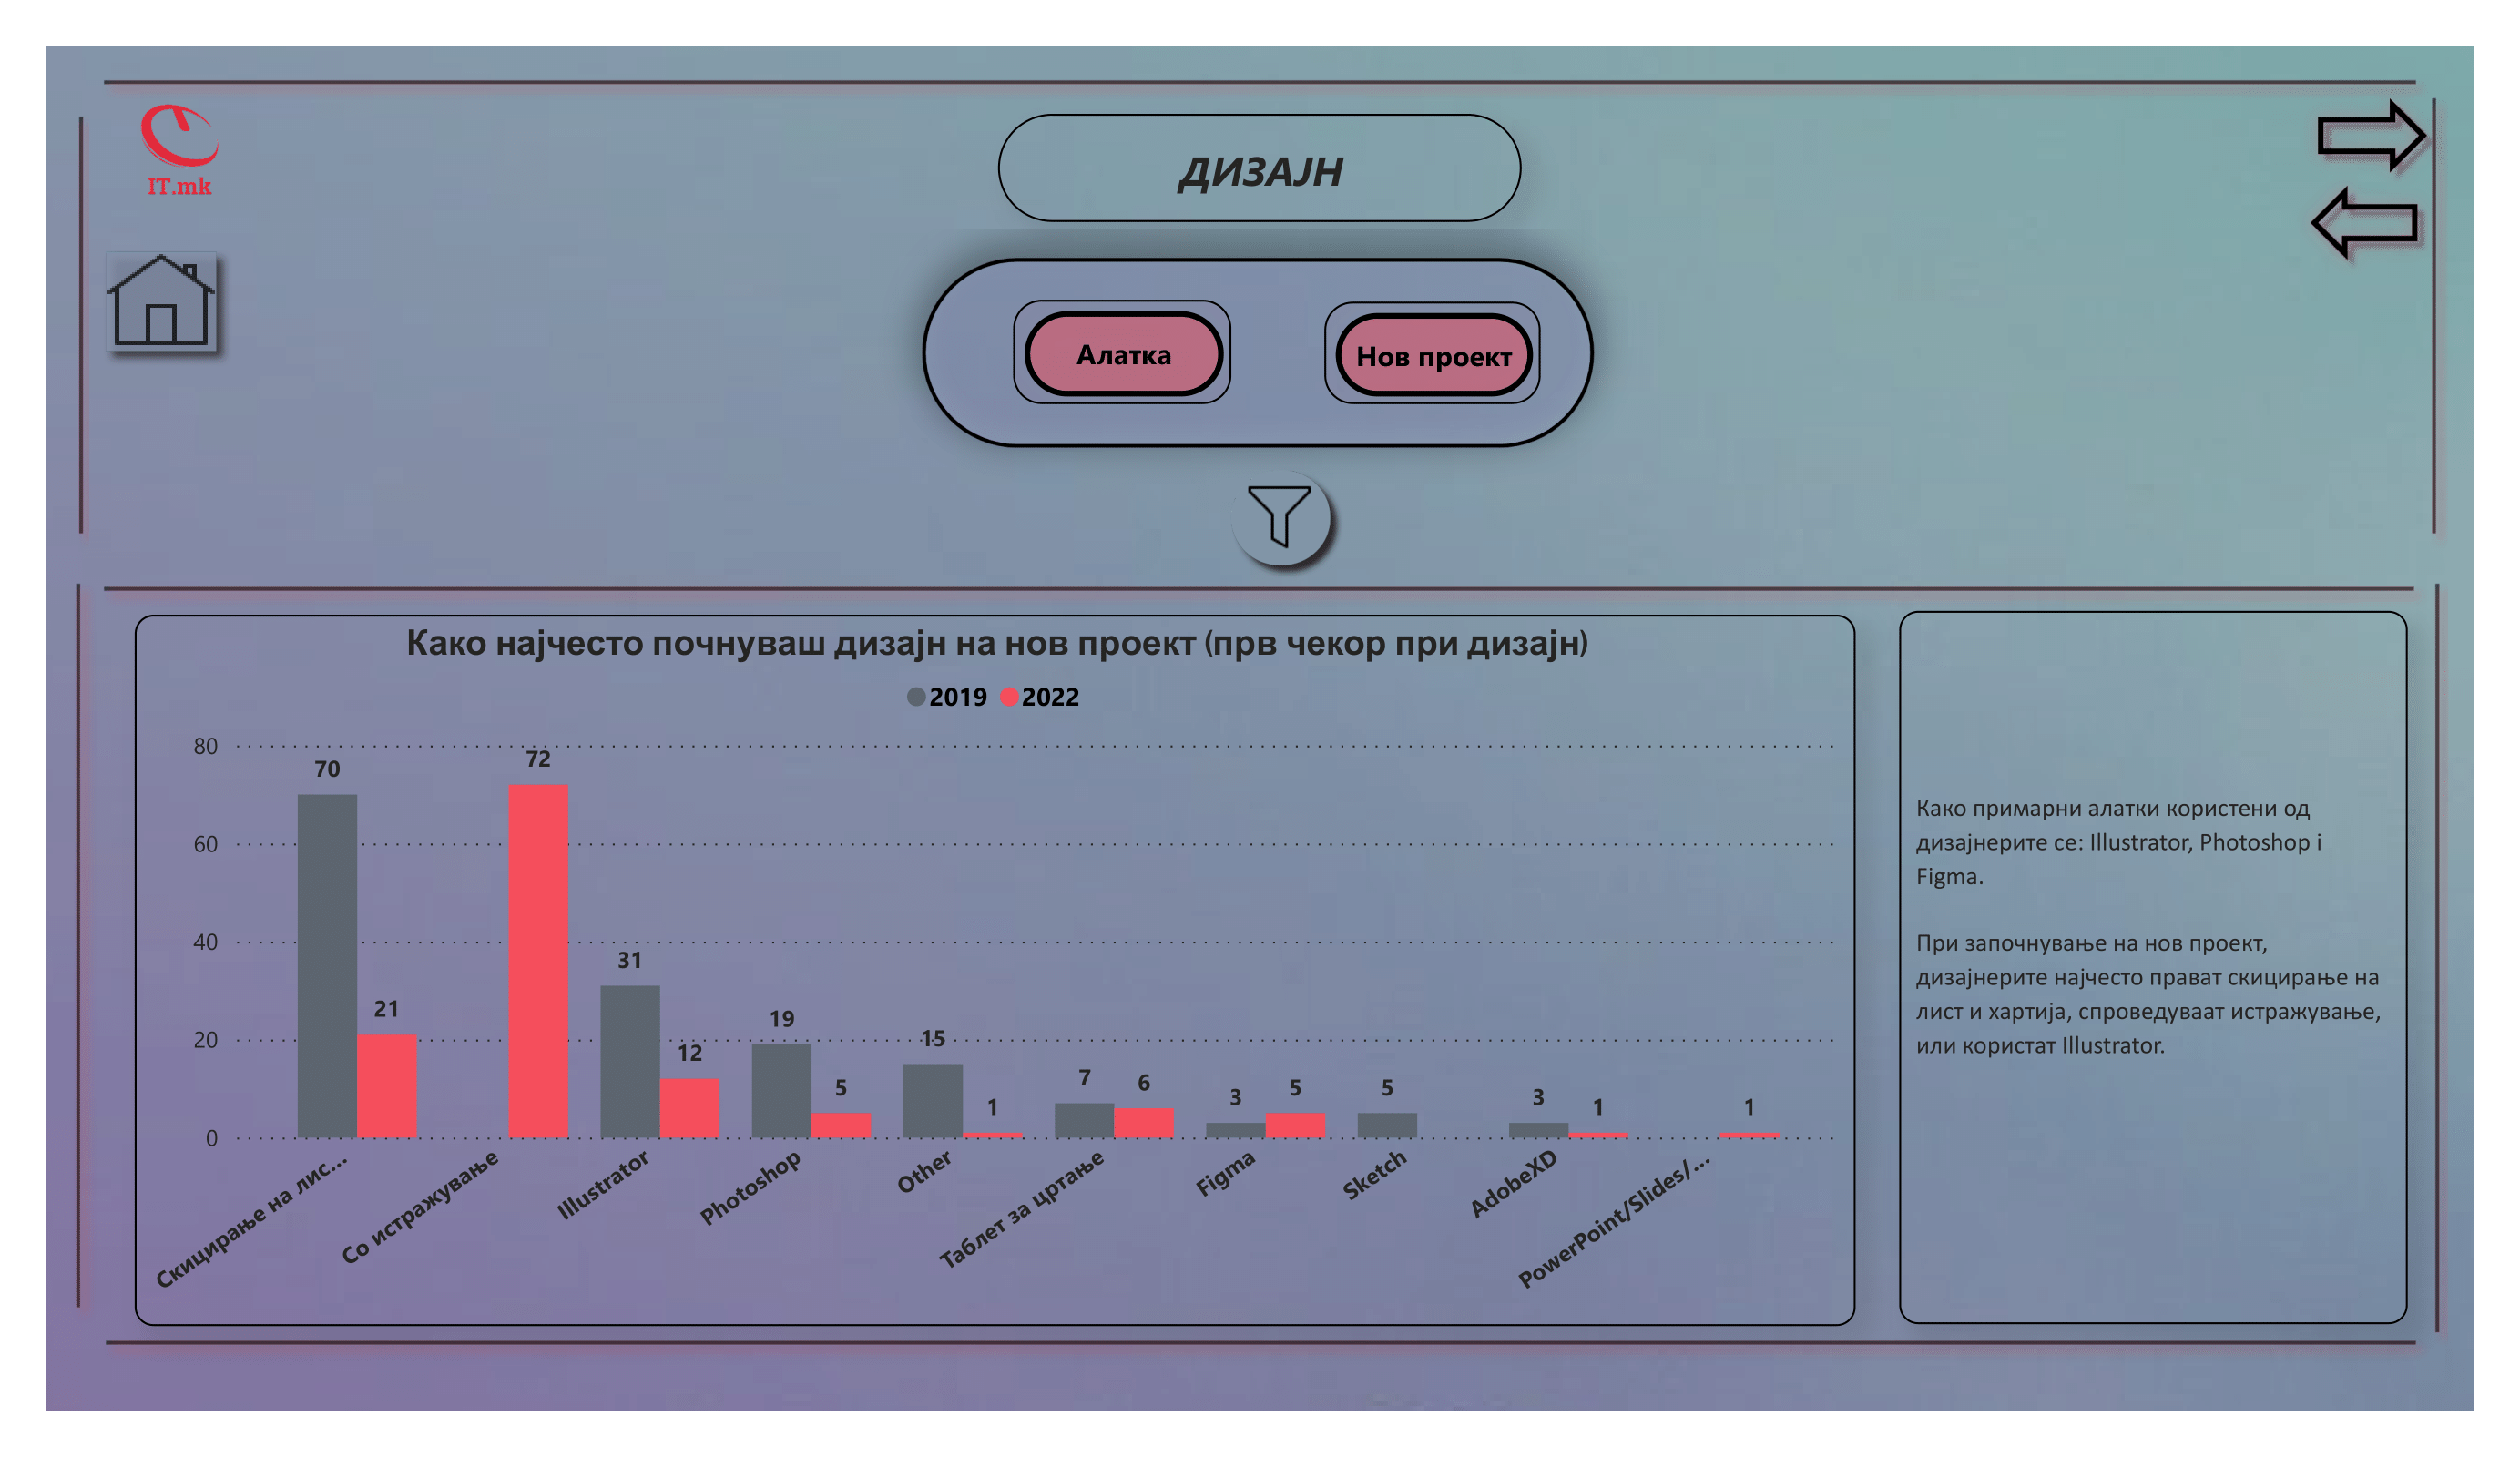

This screenshot's page, from the dashboard's own definition file:
{"tool":"powerbi","page":{"name":"Дизајн ","canvas":[1280,720],"ordinal":6},"visuals":[{"type":"shape","box":[1249.7,18.7,16.3,247.1],"z":0},{"type":"shape","box":[22.4,9.7,1235.3,19.5],"z":1000},{"type":"shape","box":[22.1,275.1,1234.5,23.3],"z":2000},{"type":"shape","box":[10.5,29.1,12.8,236.6],"z":3000},{"type":"actionButton","box":[22.8,99.6,75.7,70.5],"z":4000},{"type":"image","box":[23.1,19.2,95.2,71.2],"z":5000},{"type":"textbox","box":[502.3,35.6,275.9,57.3],"z":6000},{"type":"shape","box":[437.2,86.7,404.2,150.1],"z":7000},{"type":"actionButton","box":[616.8,216,68.5,65.9],"z":8000},{"type":"actionButton","box":[1185.6,66.4,72.3,54.8],"z":9000},{"type":"actionButton","box":[1190.2,19.8,72.3,54.8],"z":10000},{"type":"actionButton","box":[673.9,135,113.6,54],"z":11000},{"type":"actionButton","box":[510.1,134.5,114.5,54.7],"z":12000},{"type":"shape","box":[1252,275.1,14,411.5],"z":13000},{"type":"shape","box":[22.5,673.9,1235.2,20.2],"z":14000},{"type":"shape","box":[5.8,275.1,23.3,398.7],"z":15000},{"type":"textbox","box":[976.8,297.8,268.1,375.9],"z":16000},{"type":"clusteredColumnChart","title":"Како најчесто почнуваш дизајн на нов проект (прв чекор при дизајн)","fields":{"Category":["Mapiranje 2019-2022.Q17 Како најчесто почнуваш дизајн на нов проект (прв чекор при дизајн)? (groups)"],"Series":["Date.Year"],"Y":["CountNonNull(Mapiranje 2019-2022.Index)"]},"box":[47,300,907,375],"z":18000}]}

Visuals, with their boxes on the page's 1280x720 design canvas (x1, y1, x2, y2). These are canvas units, not pixel positions in the 2520x1457 screenshot, which may show the page scaled, cropped or inside an application window:
shape: left=1250, top=19, right=1266, bottom=266
shape: left=22, top=10, right=1258, bottom=29
shape: left=22, top=275, right=1257, bottom=298
shape: left=10, top=29, right=23, bottom=266
actionButton: left=23, top=100, right=98, bottom=170
image: left=23, top=19, right=118, bottom=90
textbox: left=502, top=36, right=778, bottom=93
shape: left=437, top=87, right=841, bottom=237
actionButton: left=617, top=216, right=685, bottom=282
actionButton: left=1186, top=66, right=1258, bottom=121
actionButton: left=1190, top=20, right=1262, bottom=75
actionButton: left=674, top=135, right=788, bottom=189
actionButton: left=510, top=134, right=625, bottom=189
shape: left=1252, top=275, right=1266, bottom=687
shape: left=22, top=674, right=1258, bottom=694
shape: left=6, top=275, right=29, bottom=674
textbox: left=977, top=298, right=1245, bottom=674
"Како најчесто почнуваш дизајн на нов проект (прв чекор при дизајн)" clusteredColumnChart: left=47, top=300, right=954, bottom=675
